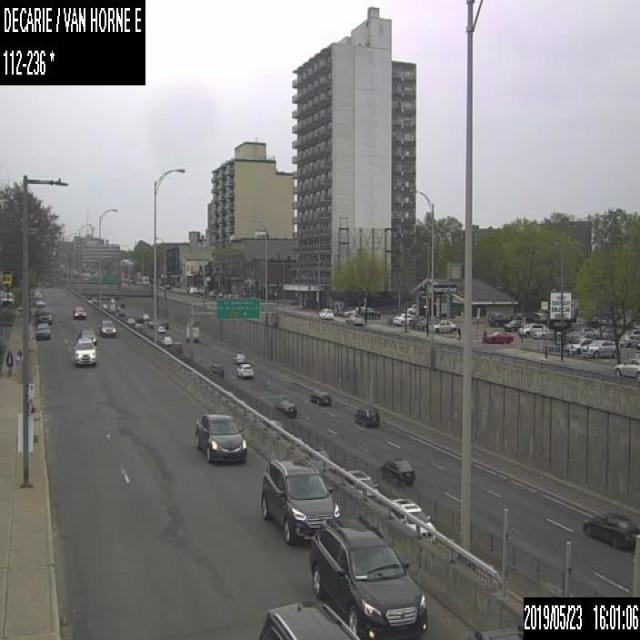pedestrian: (4, 348, 12, 376), (15, 349, 22, 372)
vehicle: (309, 519, 426, 639), (260, 461, 340, 544), (258, 598, 359, 638), (196, 411, 246, 461), (583, 509, 639, 550), (388, 497, 438, 532), (343, 468, 378, 500), (379, 457, 414, 483), (580, 339, 616, 357), (73, 337, 96, 364), (354, 404, 378, 427), (613, 357, 639, 378), (517, 322, 547, 337), (566, 336, 590, 354), (276, 399, 298, 417), (309, 388, 330, 405), (484, 330, 512, 342), (432, 318, 456, 332), (99, 317, 116, 336), (77, 328, 95, 345), (236, 362, 255, 378), (35, 321, 51, 340), (392, 312, 413, 325), (184, 321, 198, 340), (36, 307, 52, 323), (209, 362, 224, 378), (487, 311, 503, 326), (344, 311, 362, 324), (504, 318, 522, 330), (318, 306, 334, 318), (72, 306, 85, 318), (232, 352, 244, 363), (161, 335, 173, 345), (406, 302, 416, 313), (34, 295, 43, 307), (124, 317, 134, 324), (156, 325, 164, 333), (159, 320, 167, 328), (133, 323, 141, 330)
